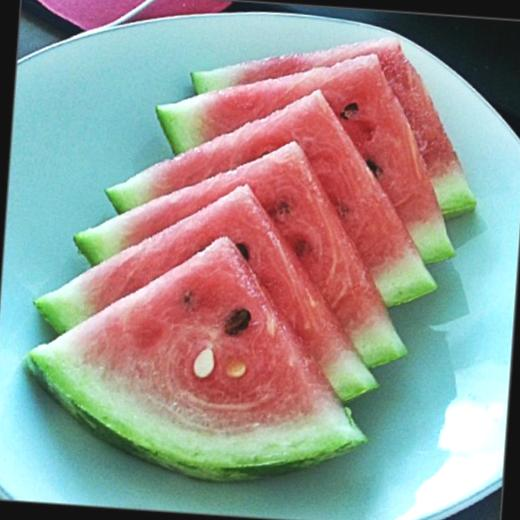Cherry: (16, 12, 488, 499)
